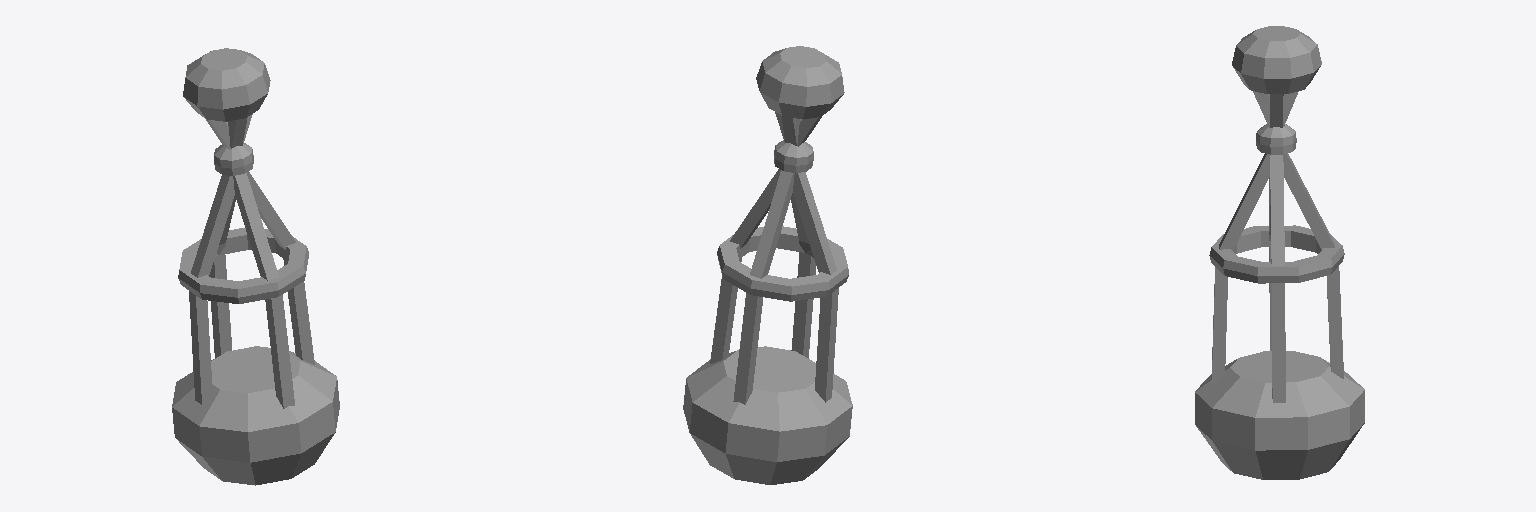
File: boya.obj
The picture shows the model from 3 angles: view 1: azimuth 30°, elevation 25°; view 2: azimuth 150°, elevation 25°; view 3: azimuth 270°, elevation 25°; orthographic projection.
Parts seen in each view (by area): view 1: Cylinder_Cylinder.017; view 2: Cylinder_Cylinder.017; view 3: Cylinder_Cylinder.017.
Part boxes in pixels (x1,y1,x2,y2): Cylinder_Cylinder.017: (172, 48, 339, 485); Cylinder_Cylinder.017: (683, 46, 852, 484); Cylinder_Cylinder.017: (1195, 26, 1364, 479).
Bounding box in the file's own units: 2.05 × 5.68 × 2.11.